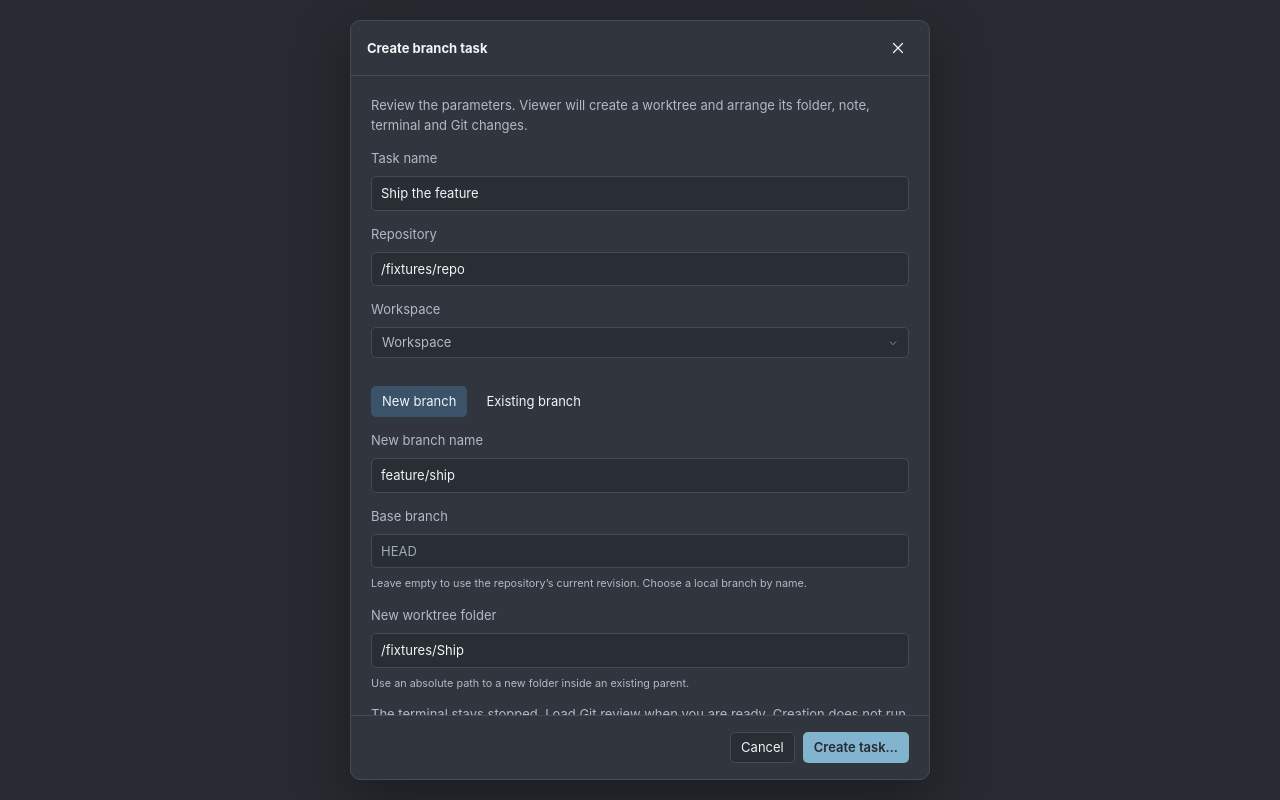
Test case: keeps model parameters editable and validates before any desktop request
Step 1. Replace the text in the field named "Task branch" with "bad..branch" → [640, 475], box [371, 458, 909, 493]
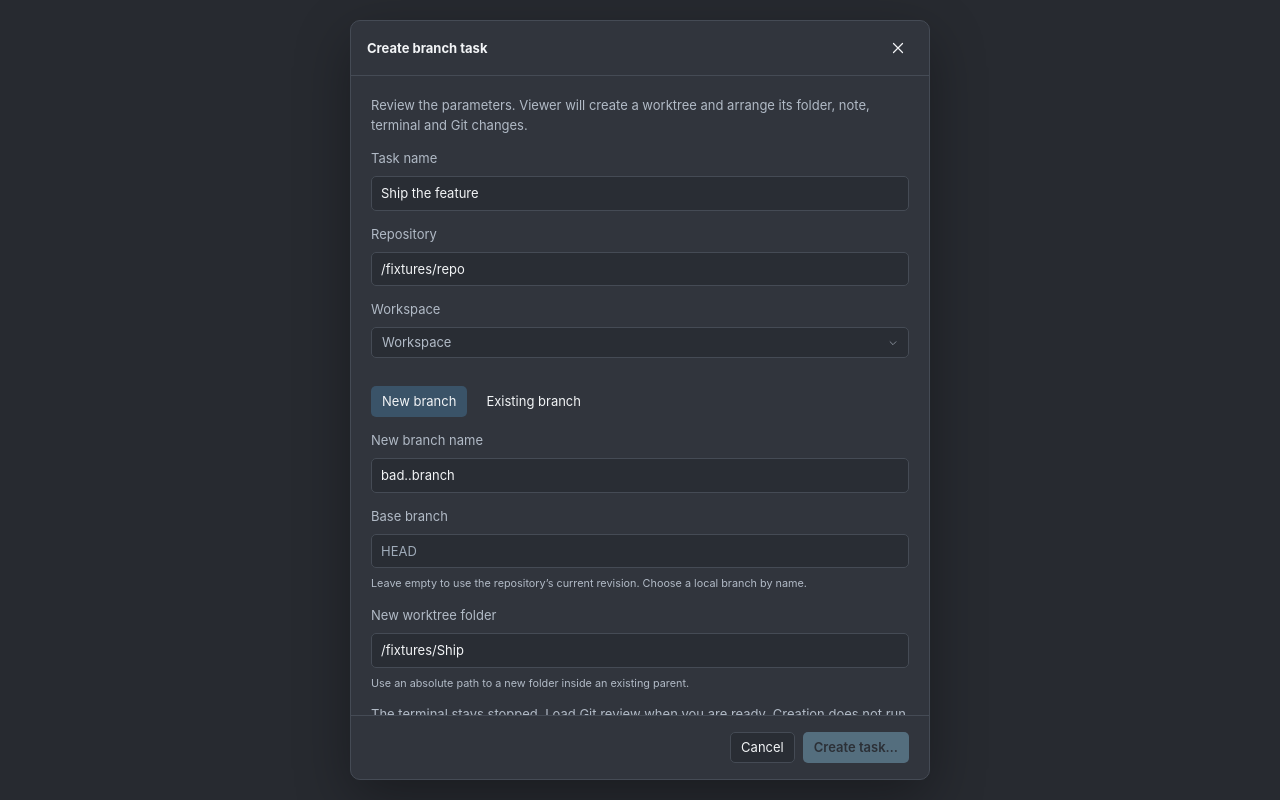
expect the button "Create task…" is disabled: met, box [803, 732, 909, 763]
Step 2. Replace the text in the field named "Task branch" with "feature/edited" → [640, 475], box [371, 458, 909, 493]
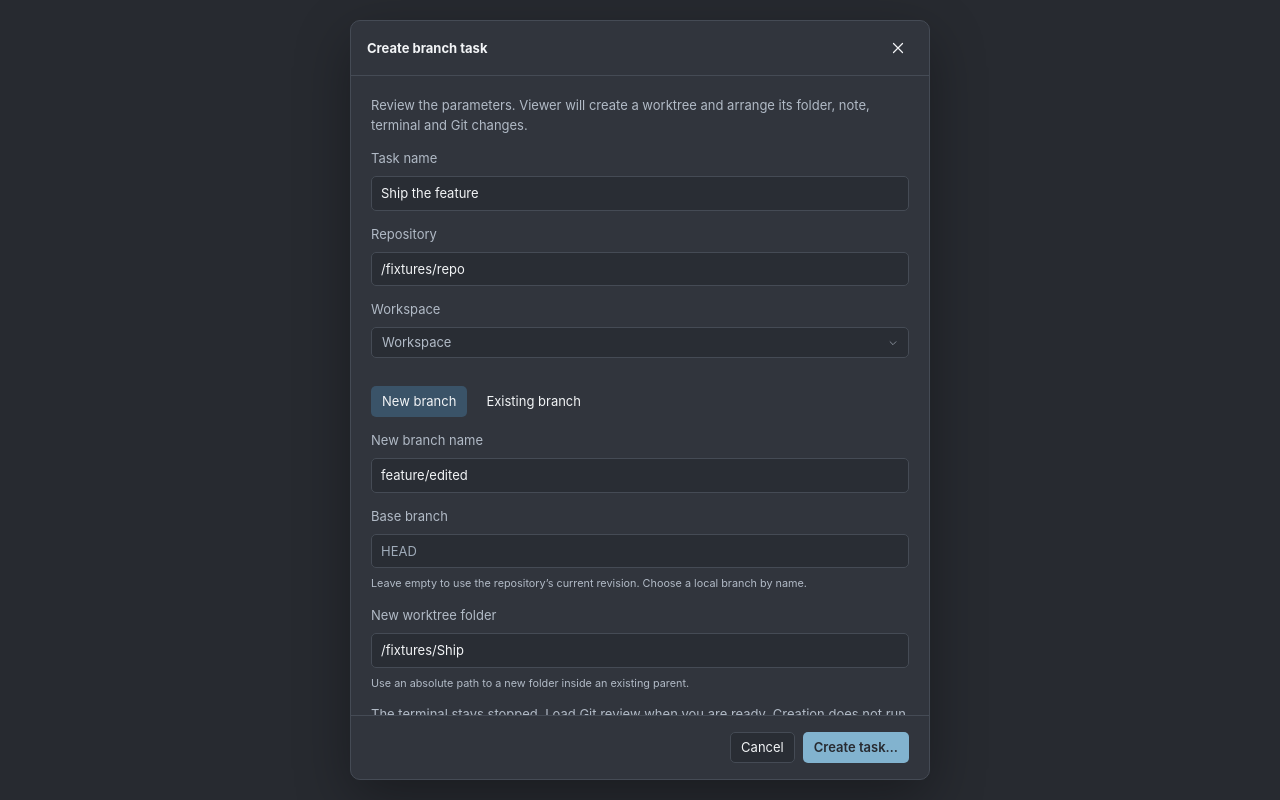
expect the button "Create task…" is enabled: met, box [803, 732, 909, 763]
